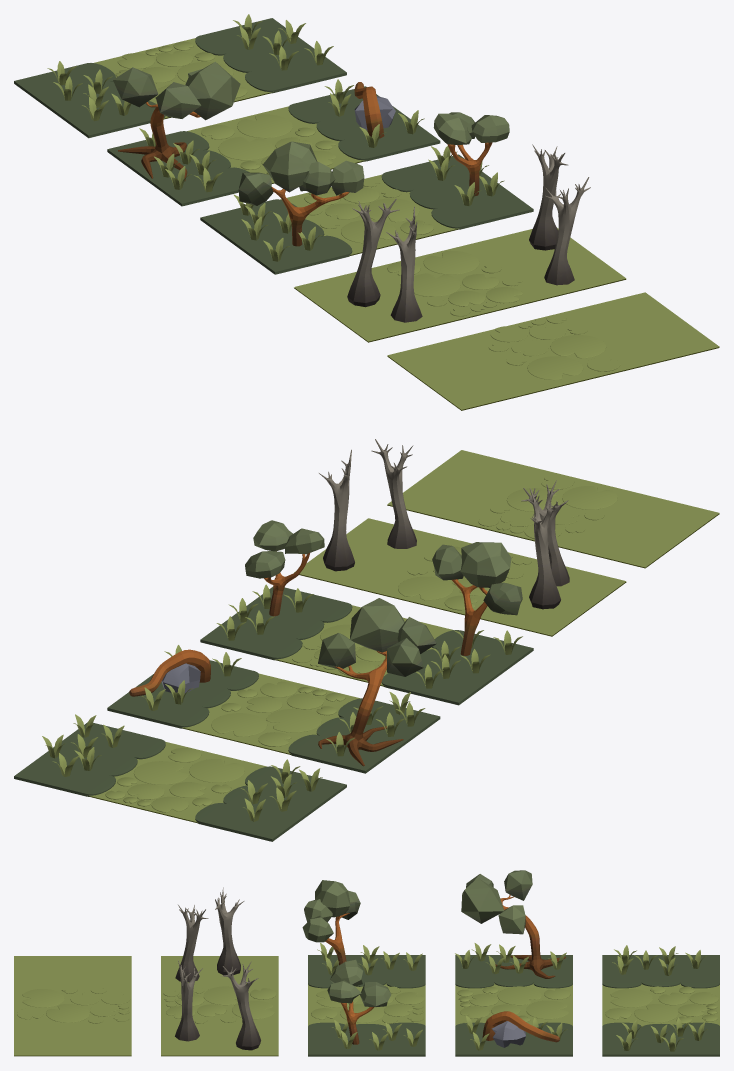
File: Swamp.glb
3 renders of one model, top to bottom at view 1: azimuth 30°, elevation 25°; view 2: azimuth 150°, elevation 25°; view 3: azimuth 270°, elevation 25°, orthographic. The views are drawn at different scales.
Parts seen in each view (by area): view 1: Mod3, Mod4, Mod2, Mod5, Mod1; view 2: Mod2, Mod3, Mod1, Mod4, Mod5; view 3: Mod2, Mod3, Mod4, Mod1, Mod5.
Boxes of the visible parts, x1=… form: Mod3: x1=200, y1=112, x2=533, y2=274; Mod4: x1=294, y1=144, x2=626, y2=342; Mod2: x1=107, y1=61, x2=440, y2=206; Mod5: x1=387, y1=292, x2=719, y2=410; Mod1: x1=14, y1=14, x2=346, y2=138; Mod2: x1=107, y1=598, x2=440, y2=773; Mod3: x1=200, y1=520, x2=533, y2=705; Mod1: x1=14, y1=714, x2=346, y2=841; Mod4: x1=294, y1=439, x2=626, y2=636; Mod5: x1=387, y1=450, x2=719, y2=568; Mod2: x1=455, y1=870, x2=572, y2=1056; Mod3: x1=302, y1=880, x2=425, y2=1056; Mod4: x1=161, y1=887, x2=278, y2=1056; Mod1: x1=602, y1=945, x2=719, y2=1056; Mod5: x1=14, y1=956, x2=131, y2=1056.
Bounding box in the file's own units: 8.77 × 3.76 × 24.
Materials: 8 (3 with a texture image).
